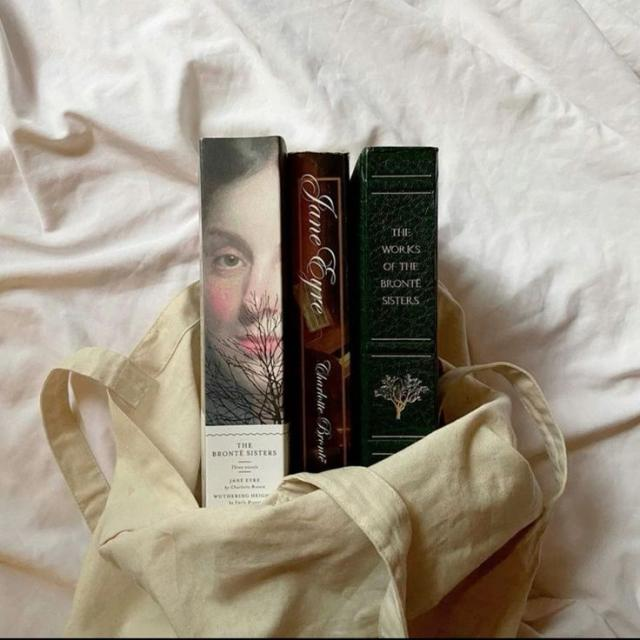book: (201, 137, 287, 506), (351, 147, 440, 464), (285, 154, 350, 471)
